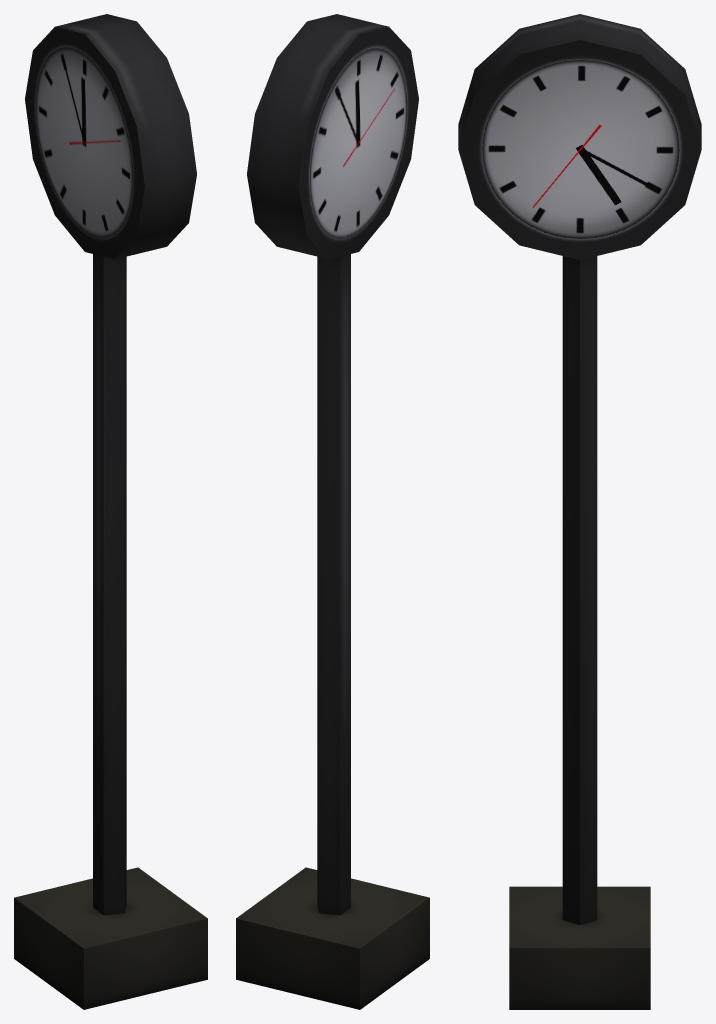
The model's file is StandingClock.FBX.
The picture shows the model from 3 angles, left to right: view 1: azimuth 30°, elevation 25°; view 2: azimuth 150°, elevation 25°; view 3: azimuth 270°, elevation 25°; orthographic projection.
Parts seen in each view (by area): view 1: Uurwerk; view 2: Uurwerk; view 3: Uurwerk.
Boxes of the visible parts, x1=… form: Uurwerk: x1=14, y1=14, x2=207, y2=1009; Uurwerk: x1=236, y1=14, x2=429, y2=1009; Uurwerk: x1=458, y1=14, x2=701, y2=1009.
Bounding box in the file's own units: 23.83 × 173 × 40.
1 material, 1 textured.
